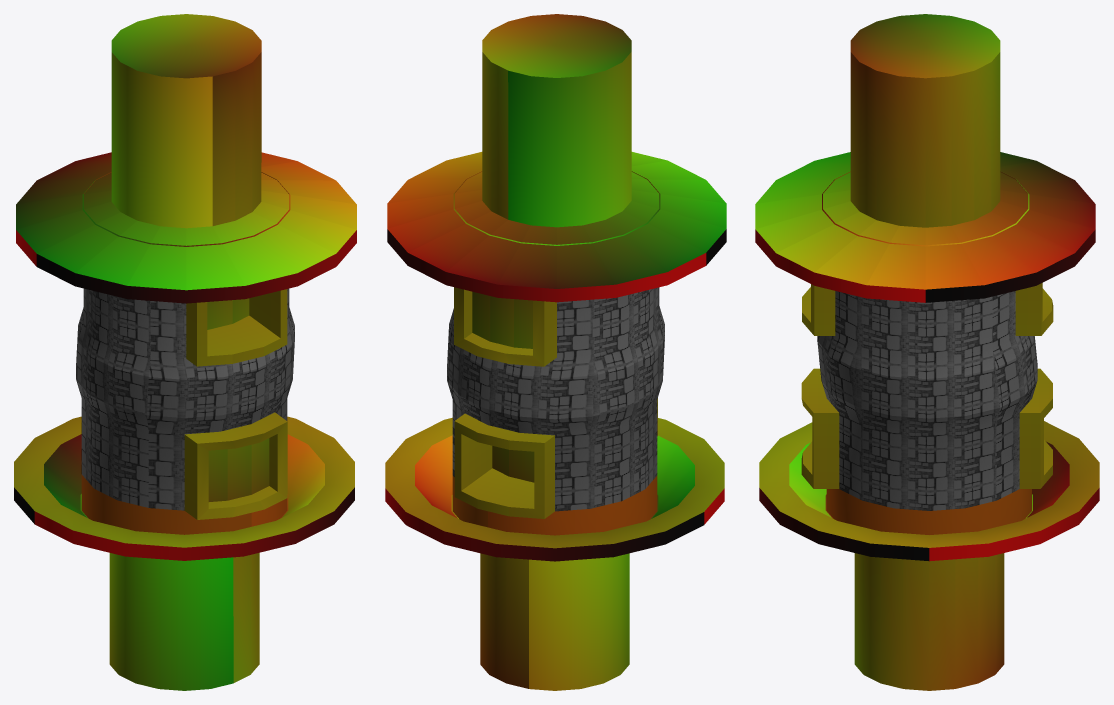
The model's file is Connector-3.FBX.
The picture shows the model from 3 angles, left to right: view 1: azimuth 30°, elevation 25°; view 2: azimuth 150°, elevation 25°; view 3: azimuth 270°, elevation 25°; orthographic projection.
Visible parts, largest first — view 1: Connector-3; view 2: Connector-3; view 3: Connector-3.
Part boxes in pixels (bbox=[...]): Connector-3: bbox=[14, 14, 356, 690]; Connector-3: bbox=[385, 14, 726, 690]; Connector-3: bbox=[755, 14, 1099, 690].
Bounding box in the file's own units: 16.58 × 16.52 × 32.46.
